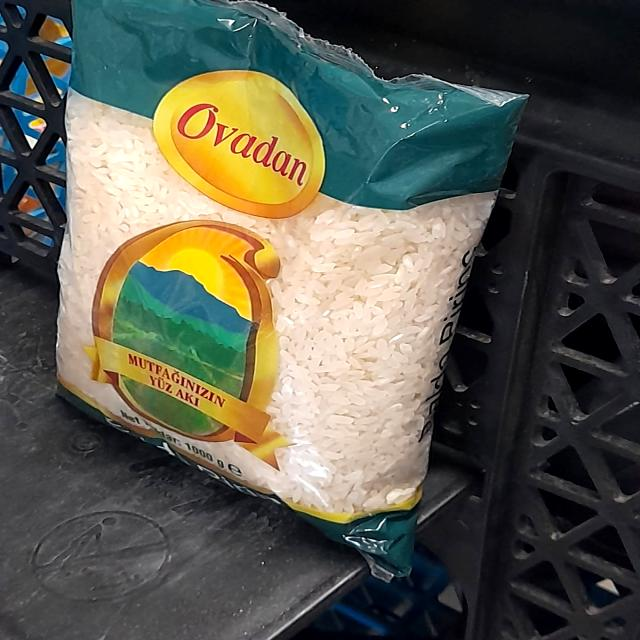rice: (55, 24, 473, 542)
